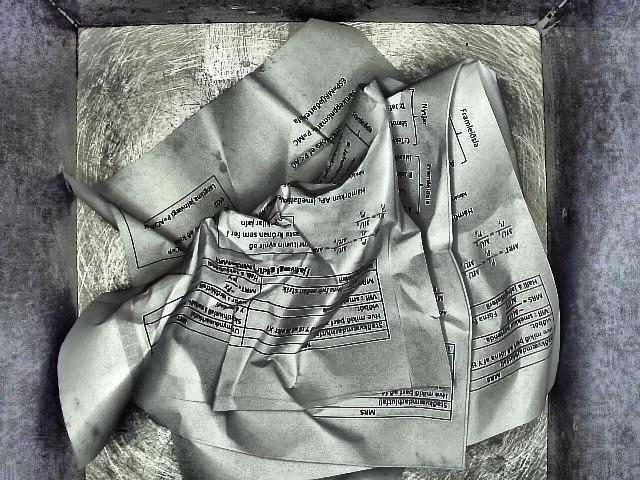Paper: (59, 15, 565, 480)
